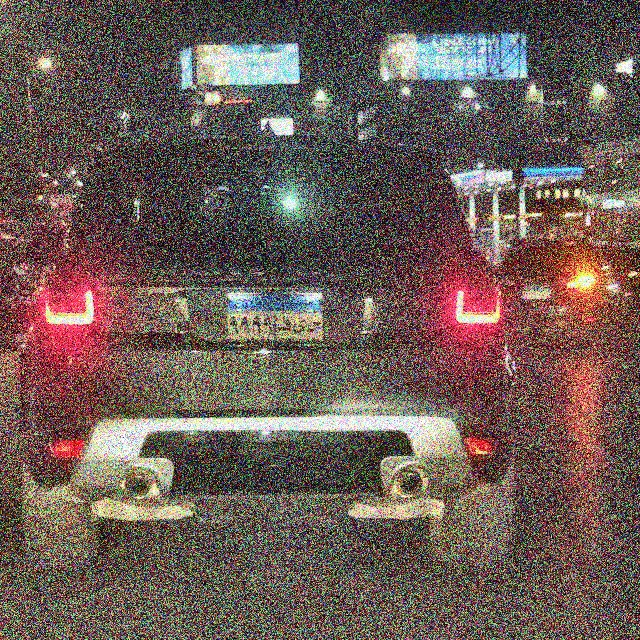License Plate: (222, 290, 325, 341)
